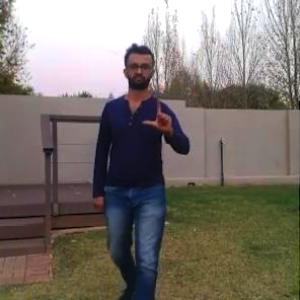land_hand: (140, 91, 180, 141)
